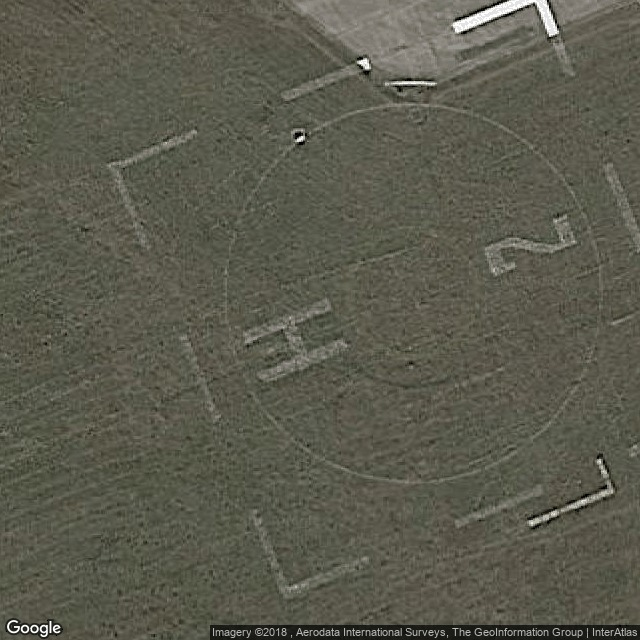heliport: (234, 289, 355, 395)
